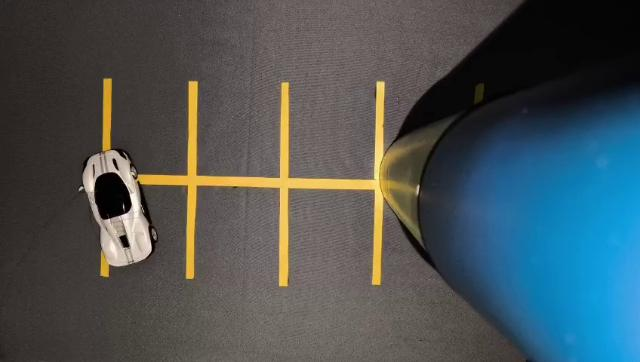toy_car: (67, 135, 189, 301)
